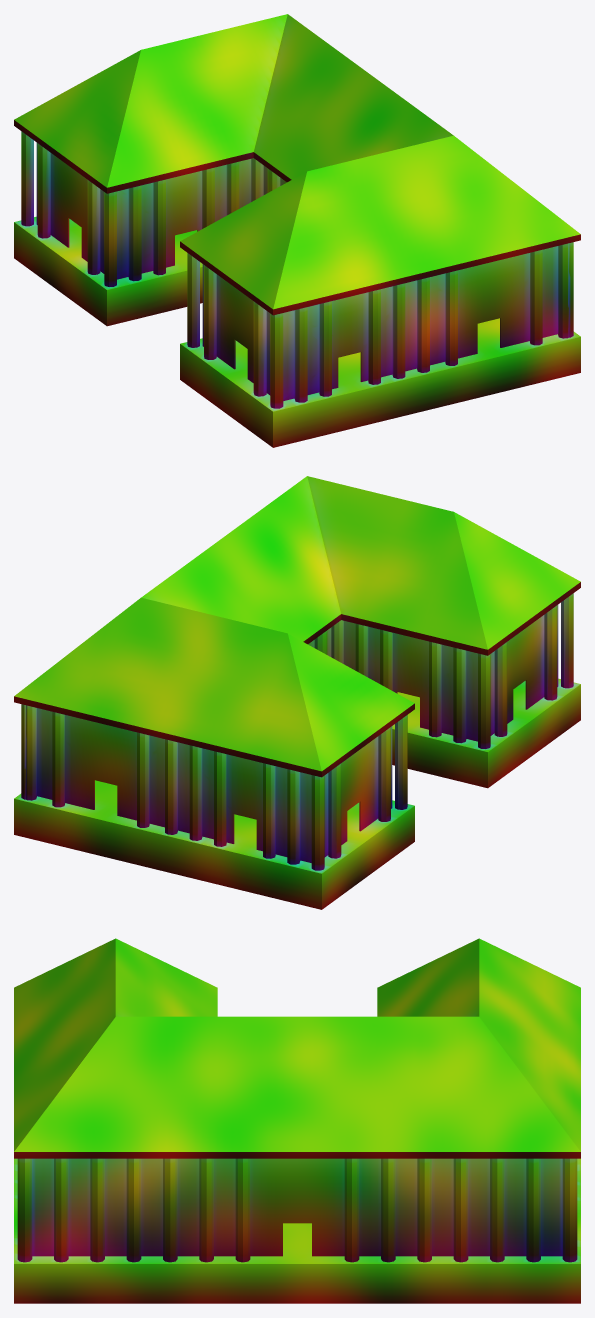
The model's file is MS_BuildingLarge_04.fbx.
3 views of the same model, one above another, from view 1: azimuth 30°, elevation 25°; view 2: azimuth 150°, elevation 25°; view 3: azimuth 270°, elevation 25° (orthographic). The views are drawn at different scales.
Parts seen in each view (by area): view 1: MS_BuildingLarge_04; view 2: MS_BuildingLarge_04; view 3: MS_BuildingLarge_04.
Boxes of the visible parts, <box> form: MS_BuildingLarge_04: <box>14,14,580,447</box>; MS_BuildingLarge_04: <box>14,476,580,909</box>; MS_BuildingLarge_04: <box>14,938,580,1303</box>.
Bounding box in the file's own units: 5350 × 3700 × 7800.
